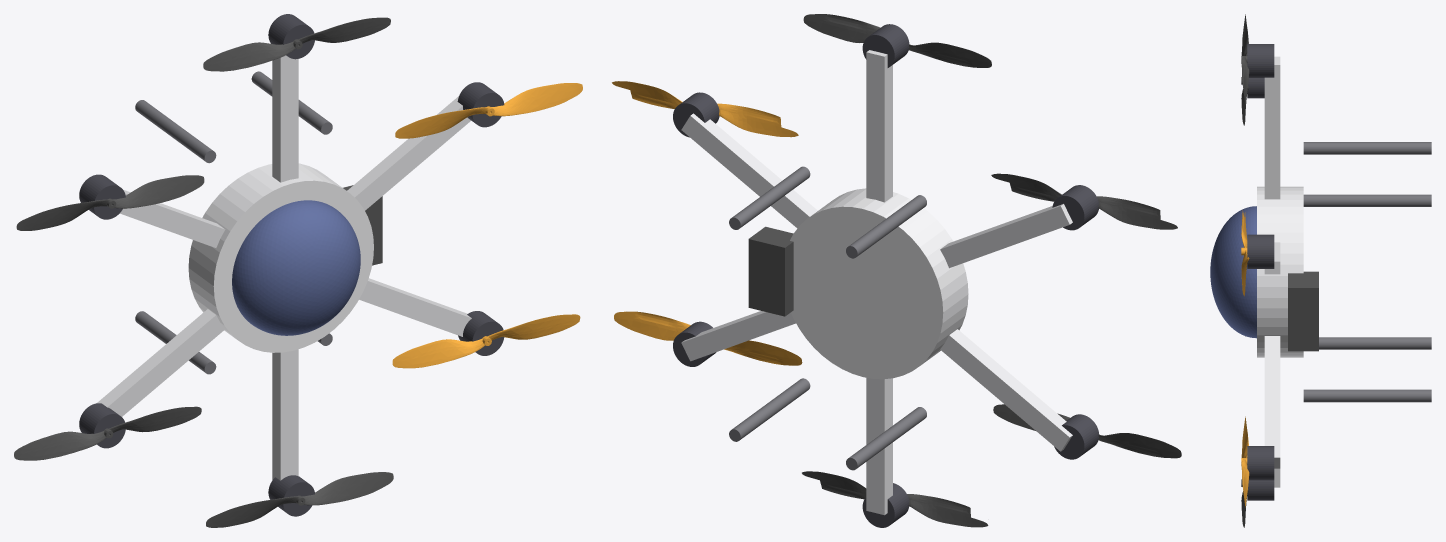
Rendered from aero_sense_hexacopter_concept.glb.
3 views of the same model, side by side, from view 1: azimuth 30°, elevation 25°; view 2: azimuth 150°, elevation 25°; view 3: azimuth 270°, elevation 25° (orthographic). The views are drawn at different scales.
Parts seen in each view (by area): view 1: base_link_canopy, base_link_body, base_link_arm_3, base_link_arm_0, base_link_arm_1, base_link_arm_2, rotor_4_prop, rotor_1_prop, rotor_3_prop, rotor_5_prop, rotor_0_prop, rotor_2_prop (+12 smaller); view 2: base_link_body, base_link_arm_3, base_link_arm_1, base_link_arm_2, payload_link_payload_visual, base_link_arm_5, base_link_arm_0, rotor_1_prop, rotor_4_prop, base_link_arm_4, rotor_5_prop, rotor_2_prop (+12 smaller); view 3: base_link_body, base_link_canopy, payload_link_payload_visual, base_link_arm_1, base_link_arm_4, base_link_leg_0, base_link_leg_2, base_link_leg_3, base_link_leg_1, base_link_motor_2, base_link_motor_4, base_link_motor_1 (+6 smaller).
Part boxes in pixels (box(x1,y1,x2,y2)): base_link_canopy: box(232, 200, 360, 335); base_link_body: box(188, 163, 373, 352); base_link_arm_3: box(97, 309, 225, 416); base_link_arm_0: box(272, 349, 298, 480); base_link_arm_1: box(272, 55, 298, 182); base_link_arm_2: box(347, 96, 471, 210); rotor_4_prop: box(392, 314, 580, 368); rotor_1_prop: box(203, 17, 390, 71); rotor_3_prop: box(14, 406, 201, 460); rotor_5_prop: box(16, 175, 204, 230); rotor_0_prop: box(206, 472, 393, 527); rotor_2_prop: box(395, 83, 582, 138); base_link_body: box(790, 188, 968, 379); base_link_arm_3: box(940, 329, 1072, 451); base_link_arm_1: box(866, 50, 892, 202); base_link_arm_2: box(681, 113, 817, 228); payload_link_payload_visual: box(748, 226, 793, 316); base_link_arm_5: box(940, 204, 1072, 268); base_link_arm_0: box(866, 377, 892, 515); rotor_1_prop: box(803, 14, 991, 67); rotor_4_prop: box(614, 311, 802, 365); base_link_arm_4: box(681, 311, 795, 361); rotor_5_prop: box(991, 173, 1177, 229); rotor_2_prop: box(612, 81, 798, 137); base_link_body: box(1257, 186, 1303, 357); base_link_canopy: box(1210, 206, 1256, 338); payload_link_payload_visual: box(1288, 271, 1318, 351); base_link_arm_1: box(1264, 56, 1280, 199); base_link_arm_4: box(1264, 336, 1280, 468); base_link_leg_0: box(1303, 389, 1431, 402); base_link_leg_2: box(1303, 142, 1431, 154); base_link_leg_3: box(1303, 194, 1431, 206); base_link_leg_1: box(1319, 337, 1431, 349); base_link_motor_2: box(1247, 234, 1274, 268); base_link_motor_4: box(1247, 446, 1274, 480); base_link_motor_1: box(1247, 44, 1274, 77).
Size of the model in its own units: 0.781 by 0.644 by 0.285.
